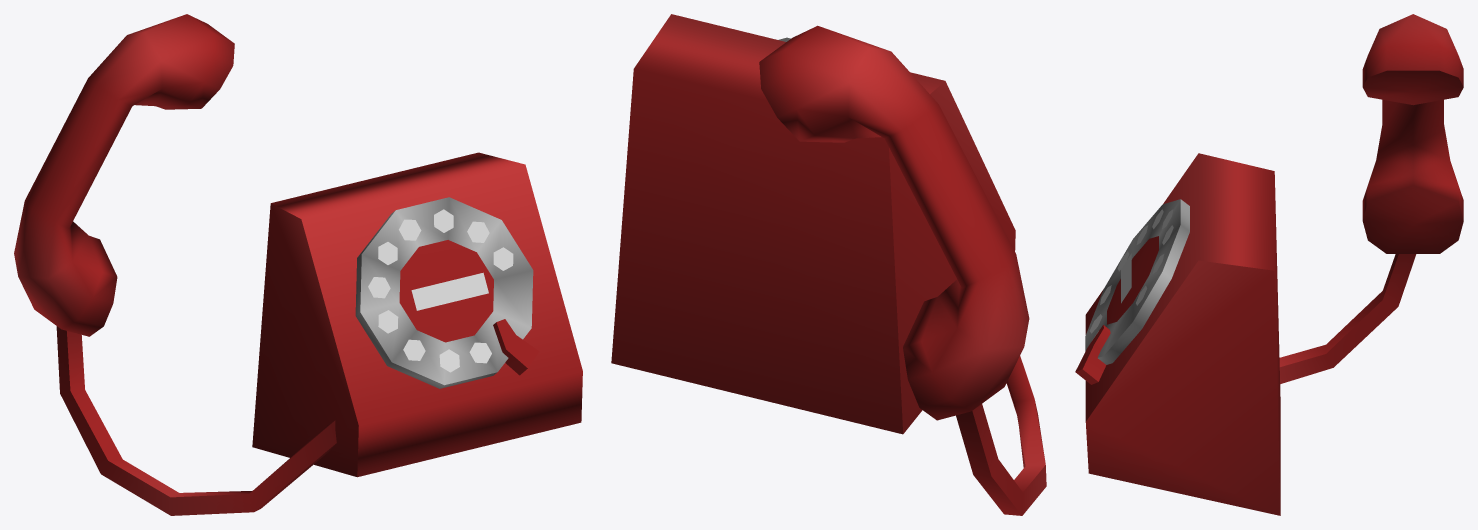
Rendered from hat_telephone.glb.
The picture shows the model from 3 angles, left to right: view 1: azimuth 30°, elevation 25°; view 2: azimuth 150°, elevation 25°; view 3: azimuth 270°, elevation 25°; orthographic projection. The views are drawn at different scales.
Visible parts, largest first — view 1: hat_telephone; view 2: hat_telephone; view 3: hat_telephone.
Part boxes in pixels (box(x1,y1,x2,y2)): hat_telephone: box(14, 14, 582, 515); hat_telephone: box(611, 14, 1046, 515); hat_telephone: box(1075, 14, 1463, 515).
Size of the model in its own units: 0.4339 by 0.4177 by 0.3671.
